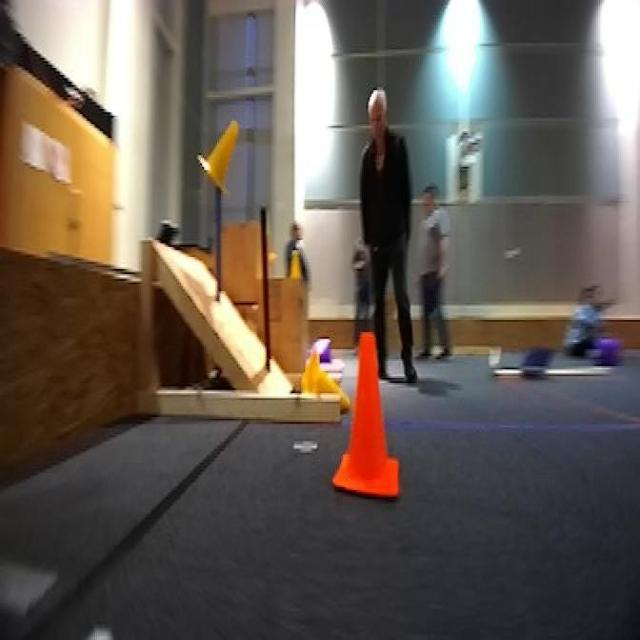frc_cone: (197, 114, 238, 199), (301, 352, 349, 403), (284, 249, 308, 291)
frc_cube: (594, 333, 616, 368), (308, 336, 330, 364)
